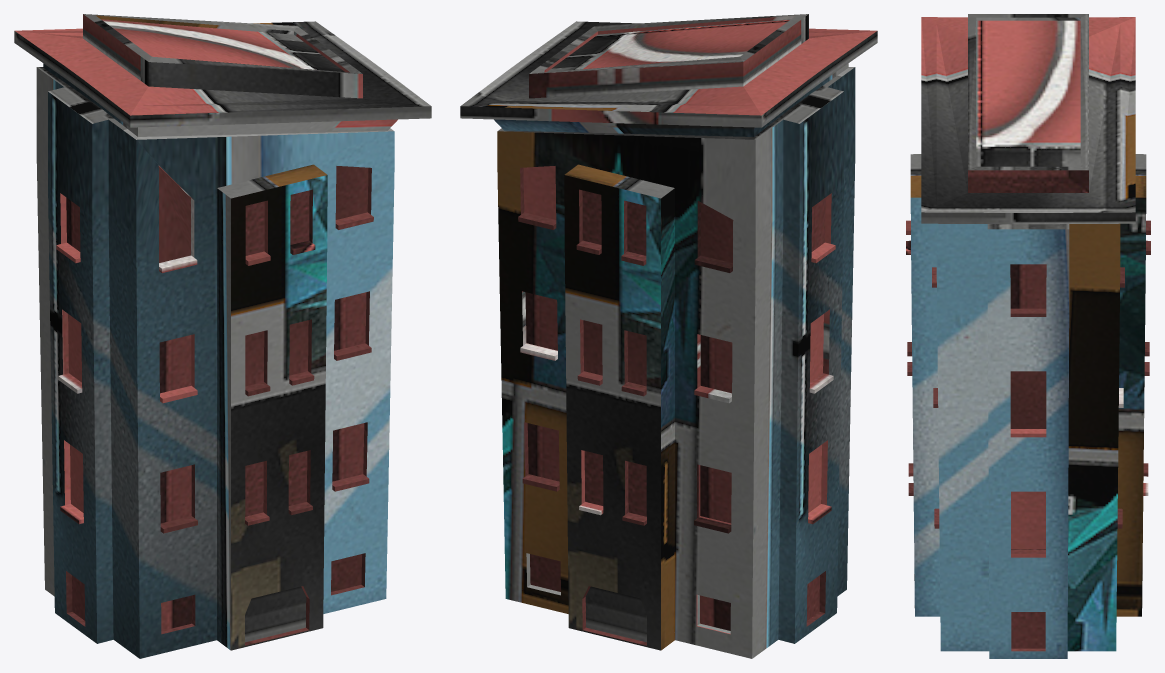
File: Building_SkyScraper 1.FBX
The picture shows the model from 3 angles, left to right: view 1: azimuth 30°, elevation 25°; view 2: azimuth 150°, elevation 25°; view 3: azimuth 270°, elevation 25°; orthographic projection. The views are drawn at different scales.
Visible parts, largest first — view 1: Box039; view 2: Box039; view 3: Box039.
Part boxes in pixels (x1,y1,x2,y2): Box039: (14, 14, 431, 658); Box039: (460, 14, 877, 658); Box039: (906, 14, 1150, 658).
Bounding box in the file's own units: 1880 × 3378 × 1396.
